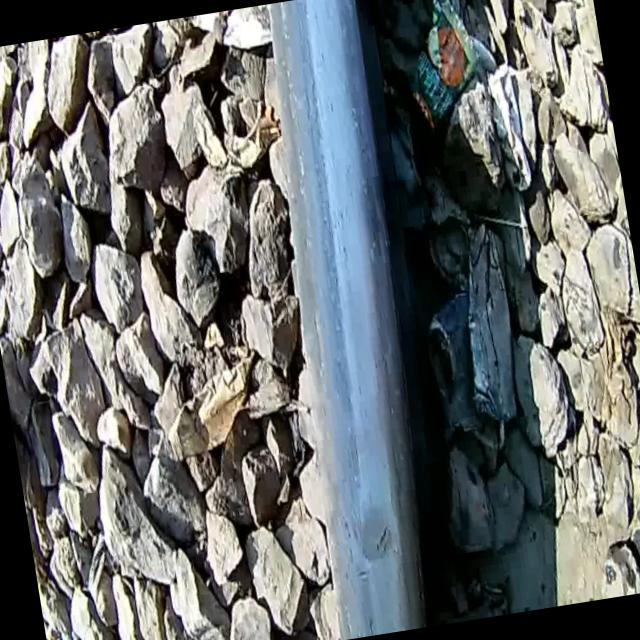Squats: (238, 0, 471, 640)
